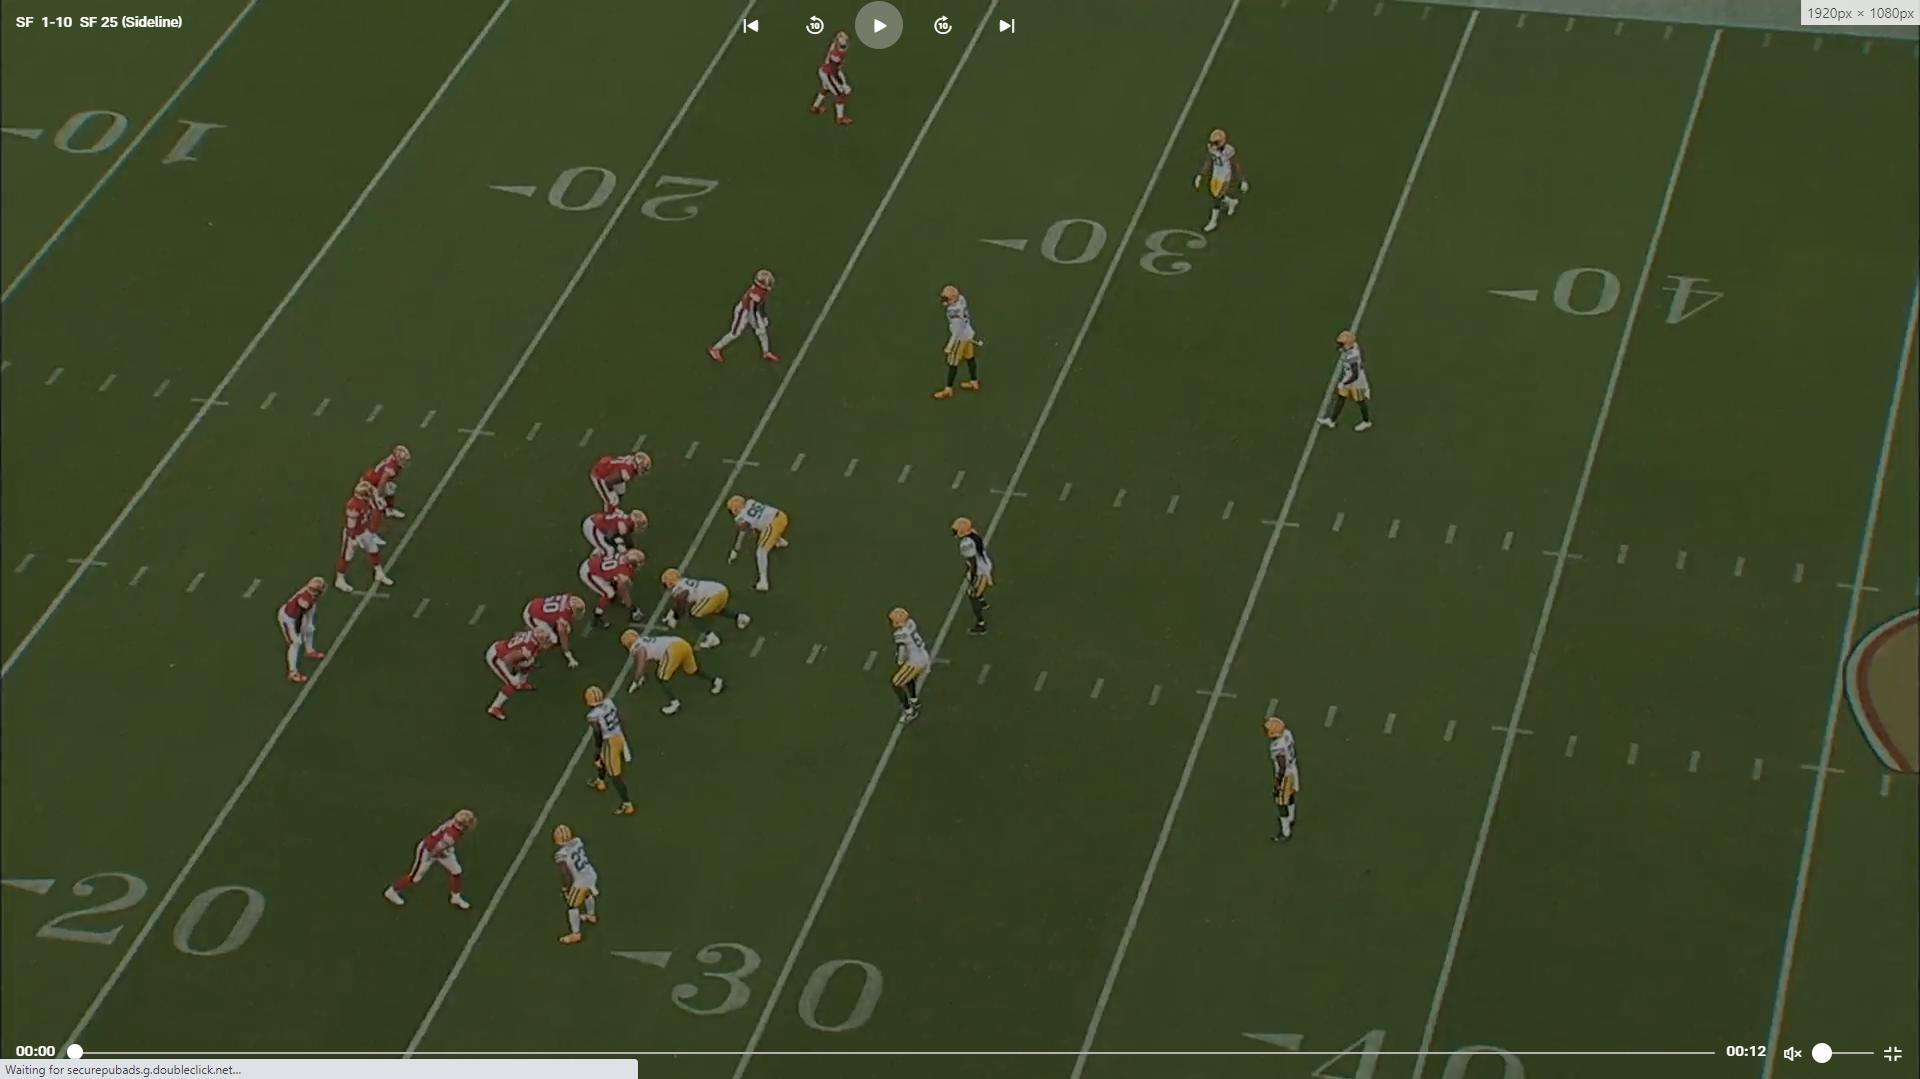defense: (620, 628, 727, 719), (585, 685, 645, 822), (662, 566, 758, 649), (1258, 712, 1309, 847), (549, 824, 604, 948), (1319, 326, 1382, 434), (725, 491, 793, 592), (882, 605, 935, 725), (936, 282, 988, 405), (951, 516, 1000, 641), (1200, 127, 1251, 237)
oline: (485, 628, 554, 723), (579, 550, 651, 631), (517, 588, 588, 669), (592, 447, 659, 512), (584, 507, 655, 558)
qb: (330, 470, 393, 594)
skill: (382, 803, 484, 914), (708, 264, 786, 369), (281, 571, 335, 685), (367, 441, 418, 538), (811, 29, 858, 131)
